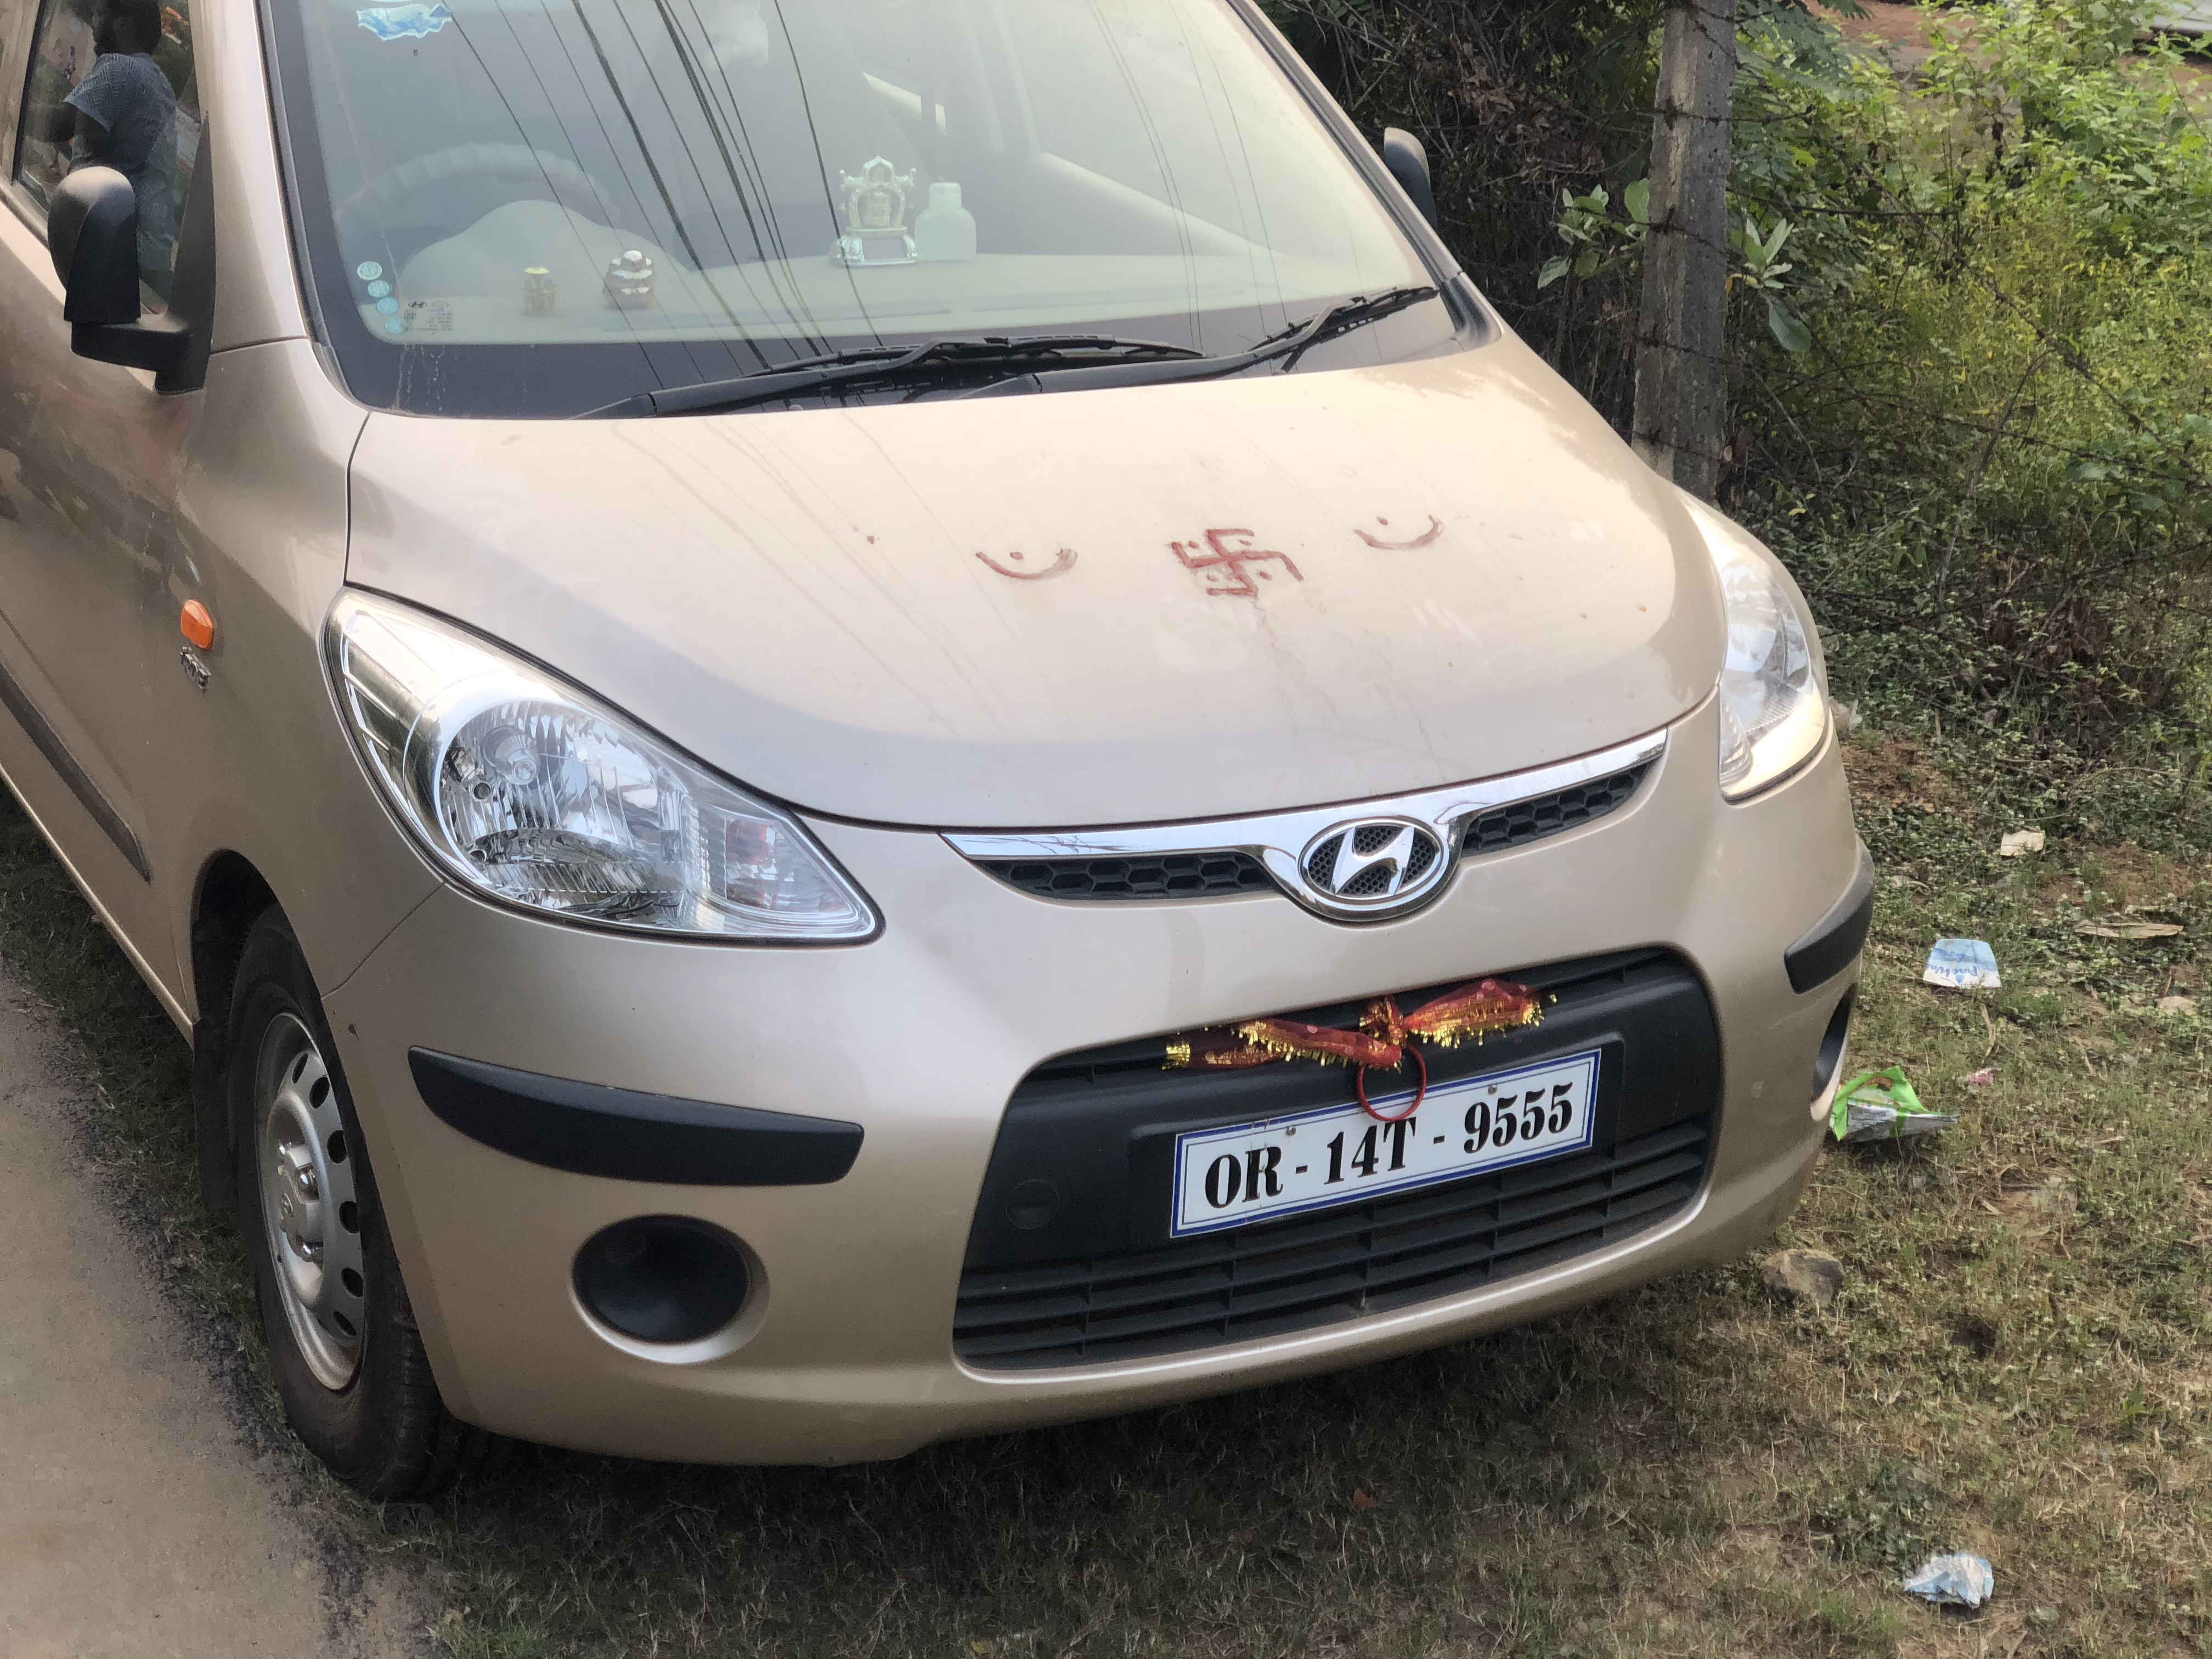licenseplate: (1132, 1036, 1626, 1224)
